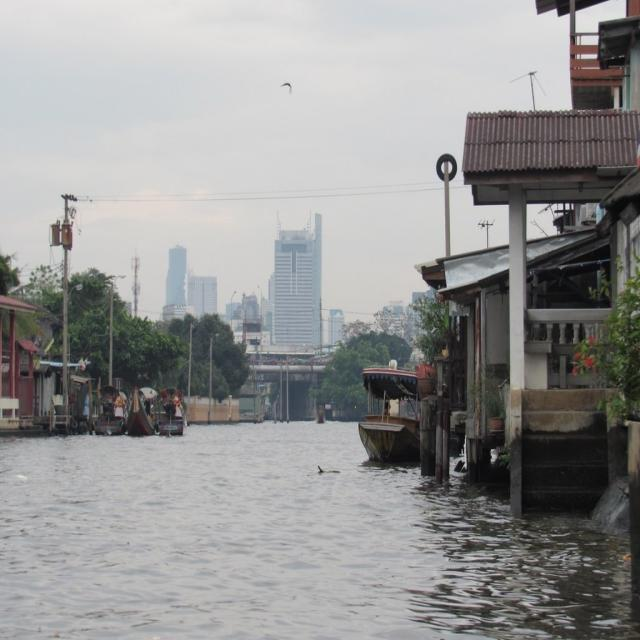boat: (348, 358, 428, 463), (93, 382, 128, 439), (154, 383, 187, 439), (124, 390, 154, 440)
